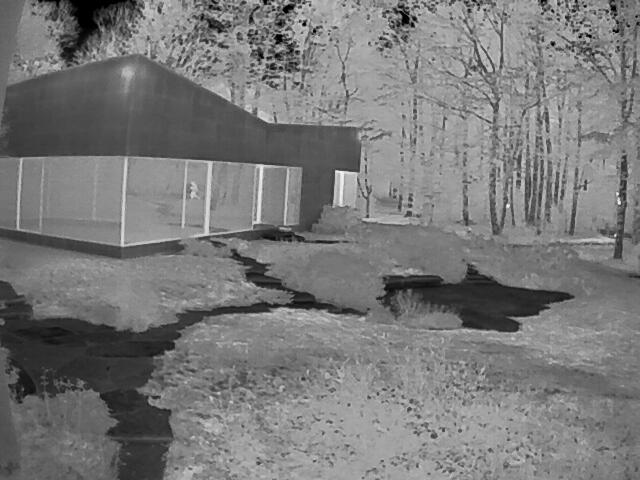person: (189, 181, 197, 201)
